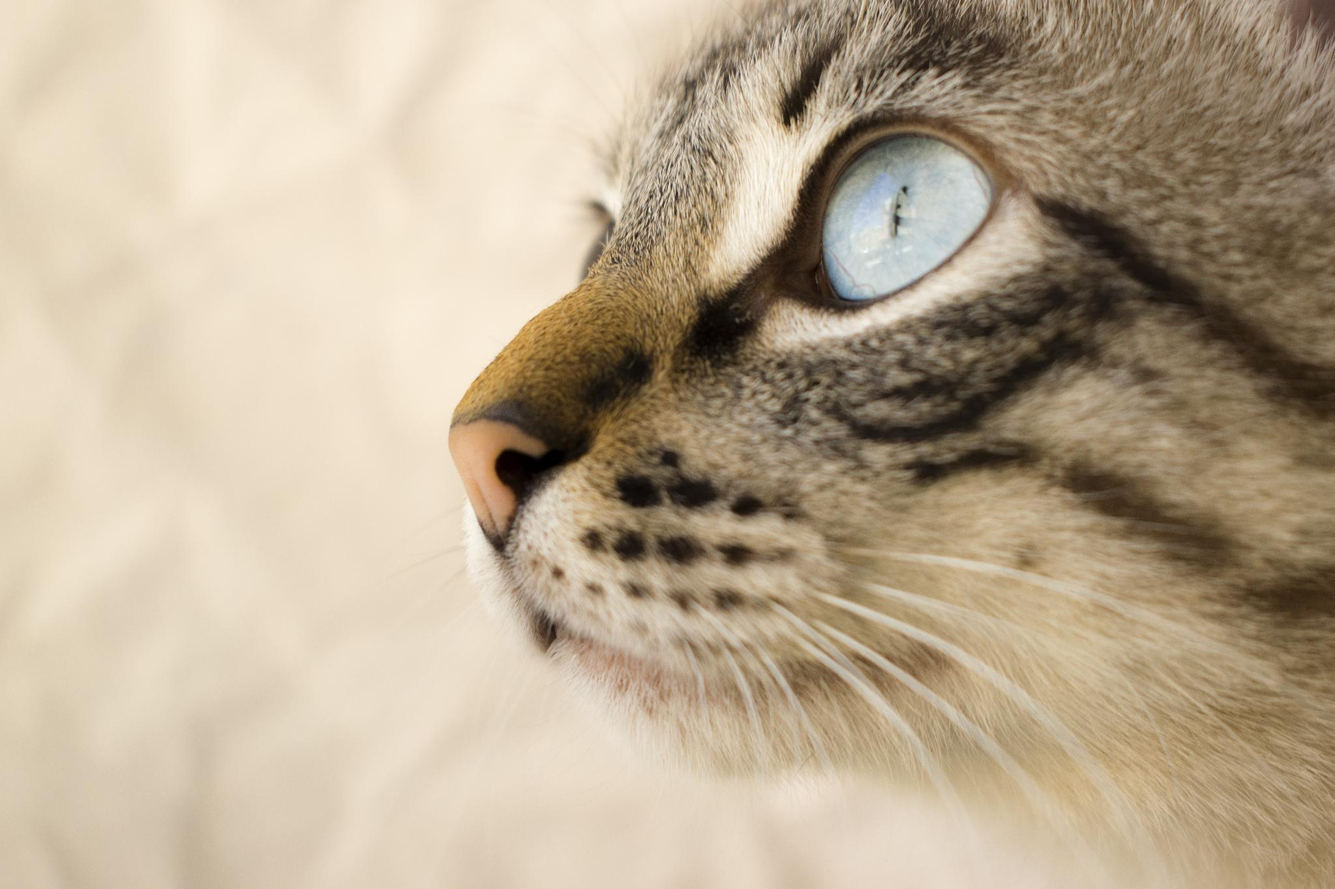cat: (441, 1, 1333, 887)
